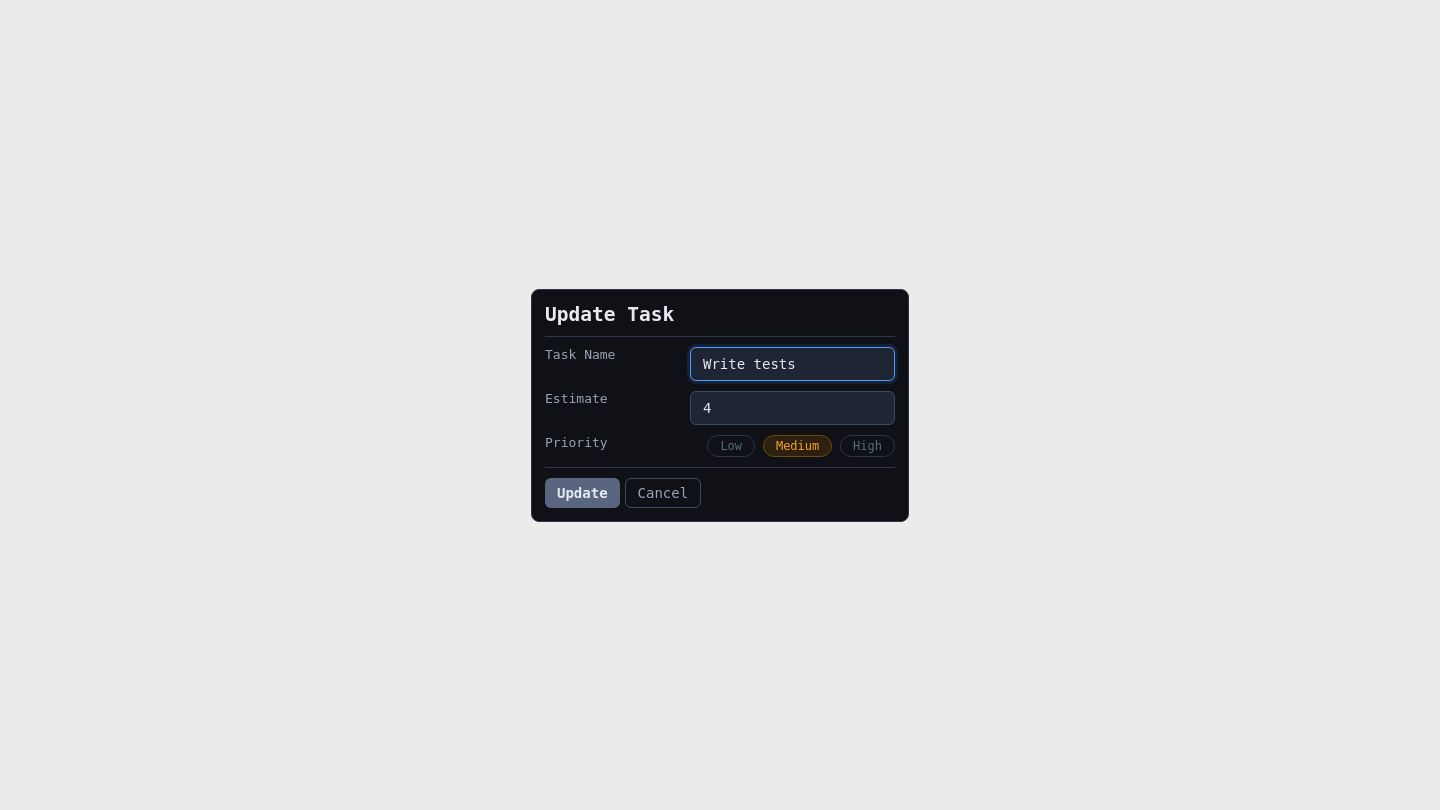
Test: EditTaskModal › the Update button › enables once the estimate changes
This screenshot has width=1440, height=810.
Check: the field with placeholder "Task Name" is not empty, box [690,346,895,380]
Step 1. Replace the text in the number field with placeholder "Estimate" with "9" → [792, 408], box [690,390,895,424]
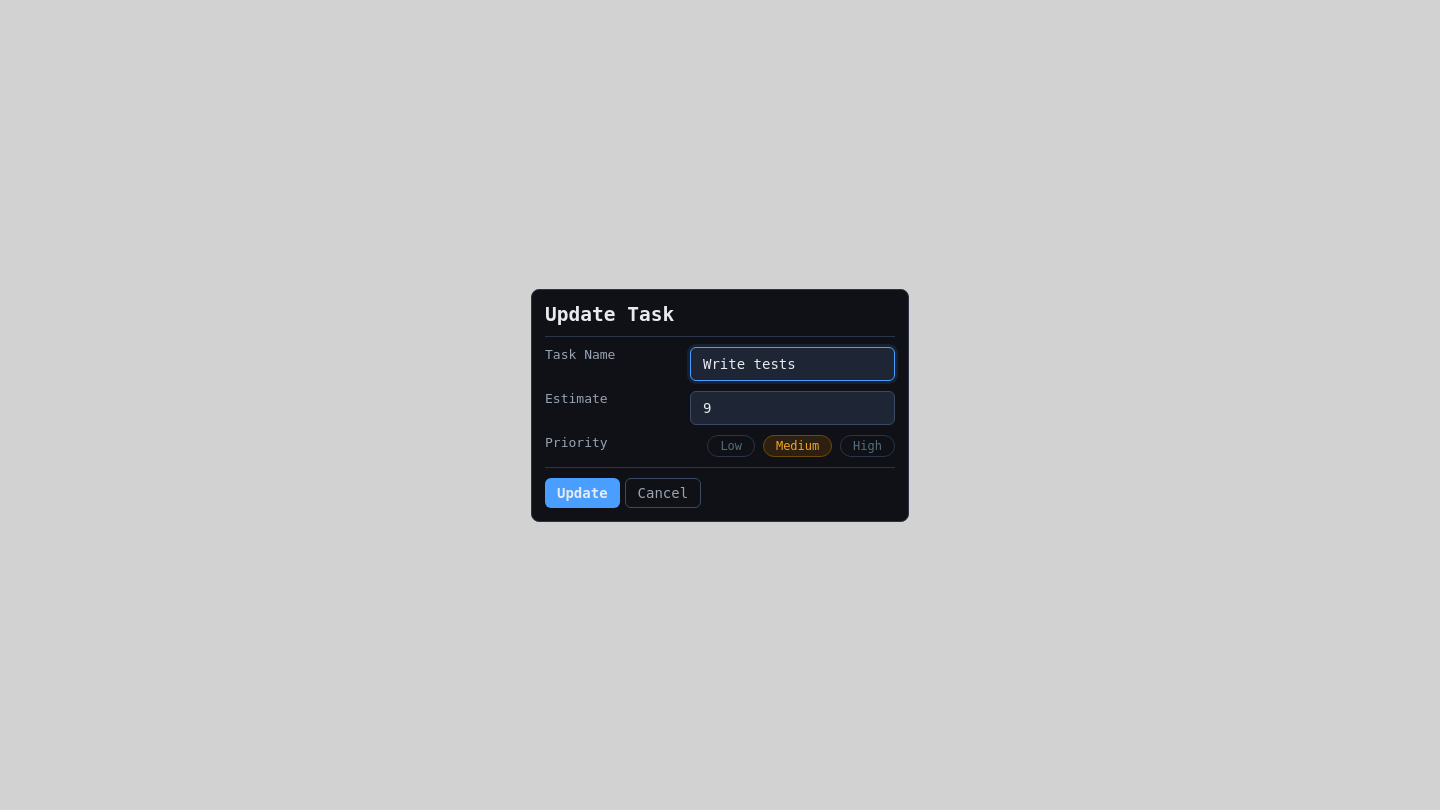
Check: the button "Update" is enabled, box [545,478,620,508]
